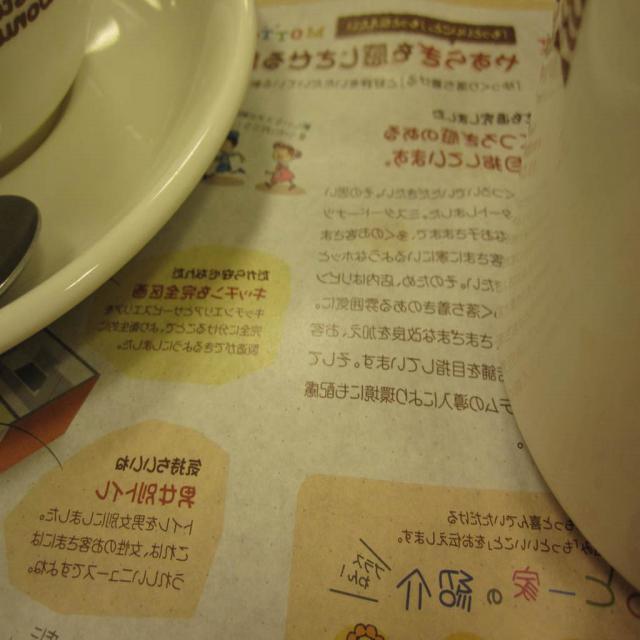ceramic plate: (0, 0, 293, 373)
